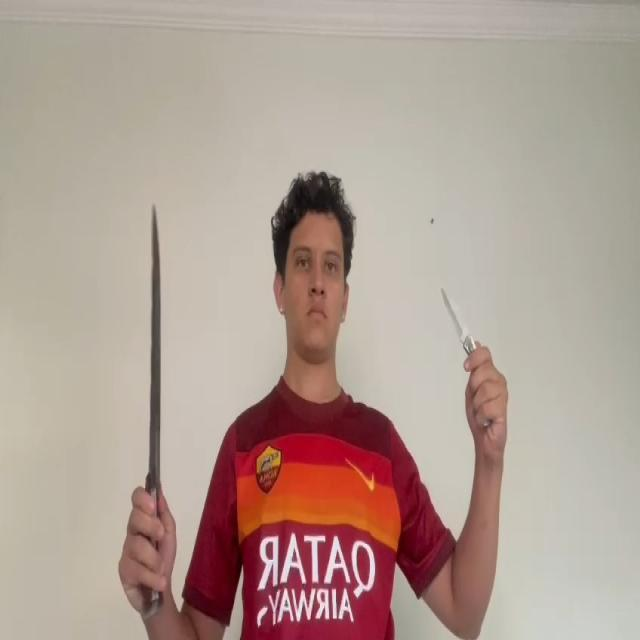knife: (147, 202, 162, 490), (442, 290, 472, 346)
